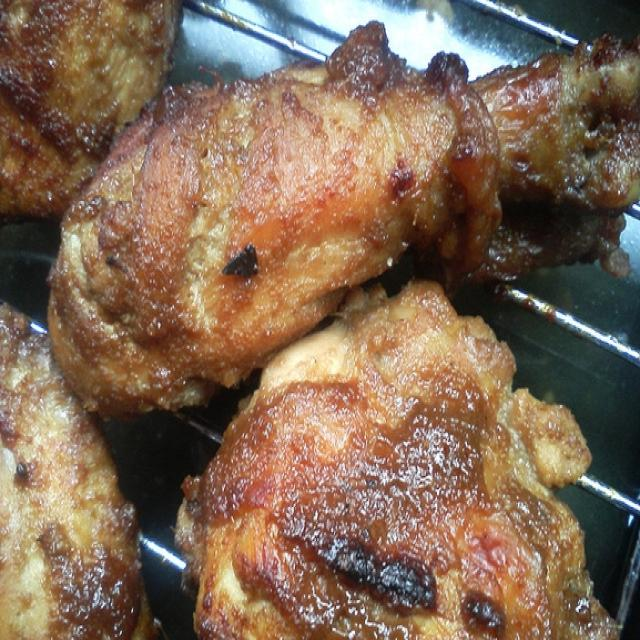鸡肉料理 含炸鸡: (11, 11, 608, 626)
